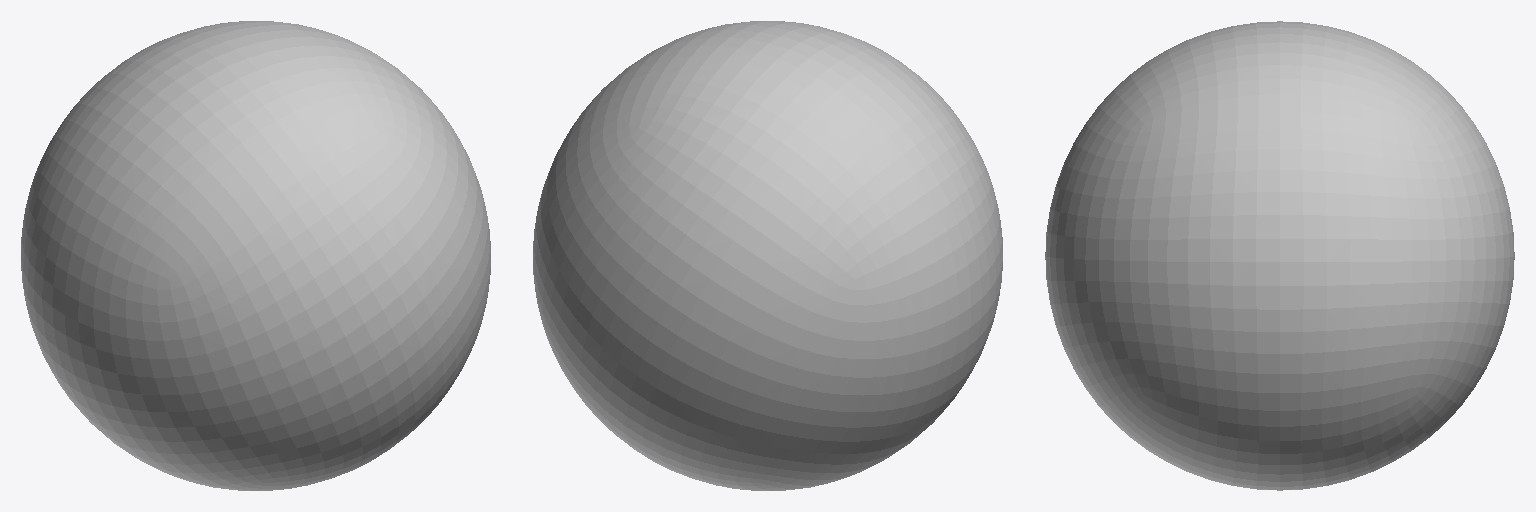
File: prime.obj
The picture shows the model from 3 angles: view 1: azimuth 30°, elevation 25°; view 2: azimuth 150°, elevation 25°; view 3: azimuth 270°, elevation 25°; orthographic projection.
Visible parts, largest first — view 1: planet_Cube; view 2: planet_Cube; view 3: planet_Cube.
Boxes of the visible parts, <box> form: planet_Cube: <box>21,21,490,490</box>; planet_Cube: <box>533,21,1002,490</box>; planet_Cube: <box>1045,21,1514,490</box>.
Bounding box in the file's own units: 1.72 × 1.72 × 1.71.